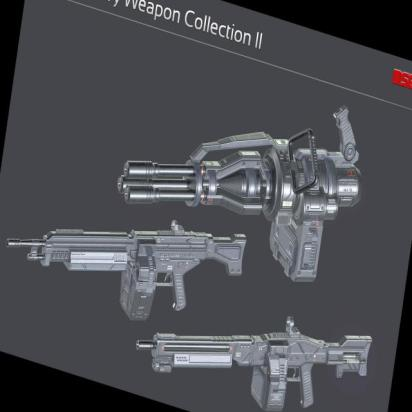Gun: (5, 219, 258, 323), (134, 314, 374, 412)
